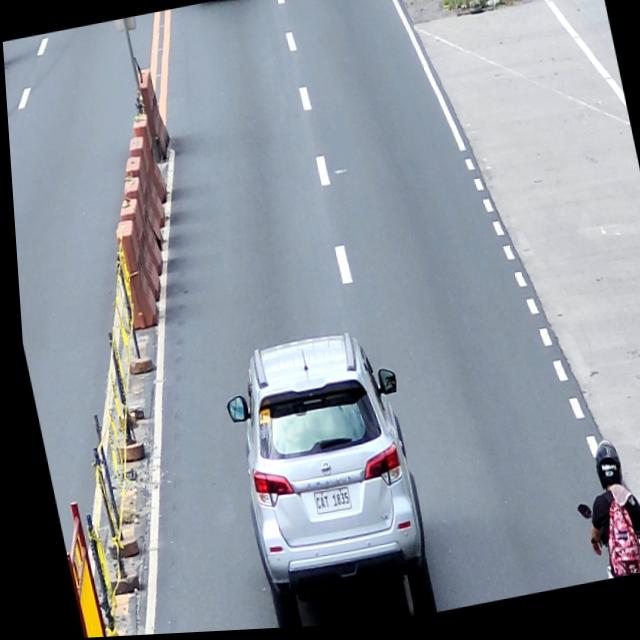Car: (209, 324, 436, 632)
License-Plate: (304, 486, 346, 519)
Motorcycle: (568, 494, 640, 587)
